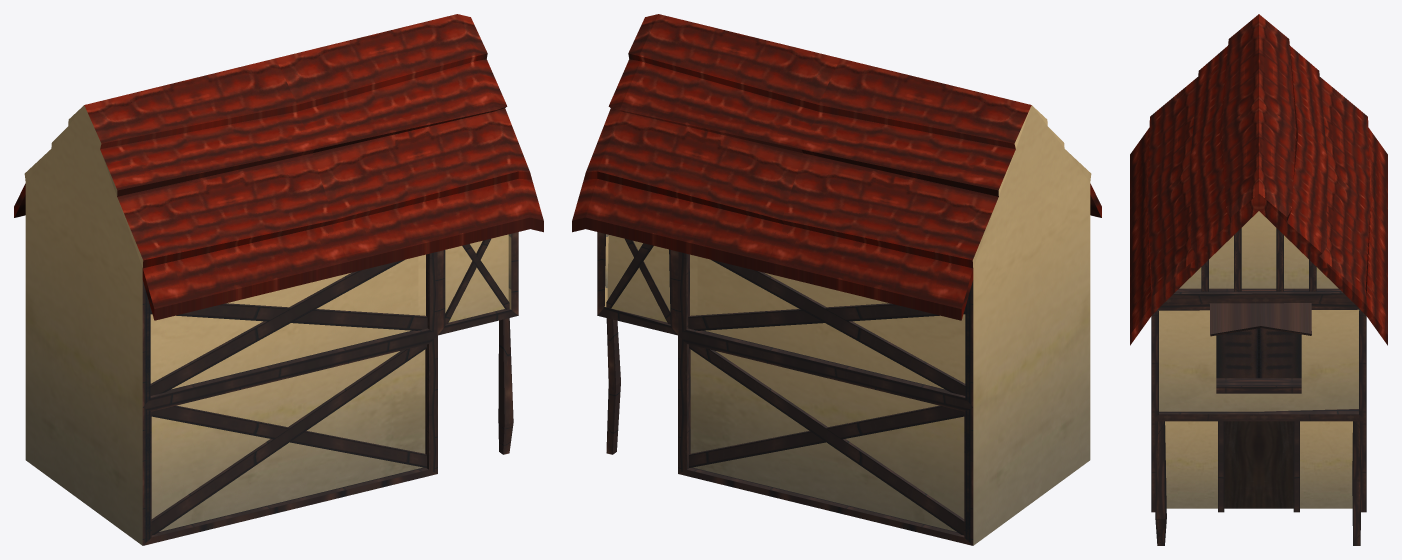
File: shop.fbx
The picture shows the model from 3 angles, left to right: view 1: azimuth 30°, elevation 25°; view 2: azimuth 150°, elevation 25°; view 3: azimuth 270°, elevation 25°; orthographic projection. The views are drawn at different scales.
Parts seen in each view (by area): view 1: Cube.017; view 2: Cube.017; view 3: Cube.017.
Part boxes in pixels (x1,y1,x2,y2): Cube.017: (14,14,543,545); Cube.017: (572,14,1101,545); Cube.017: (1130,14,1387,545).
Size of the model in its own units: 1020 by 952 by 608.
